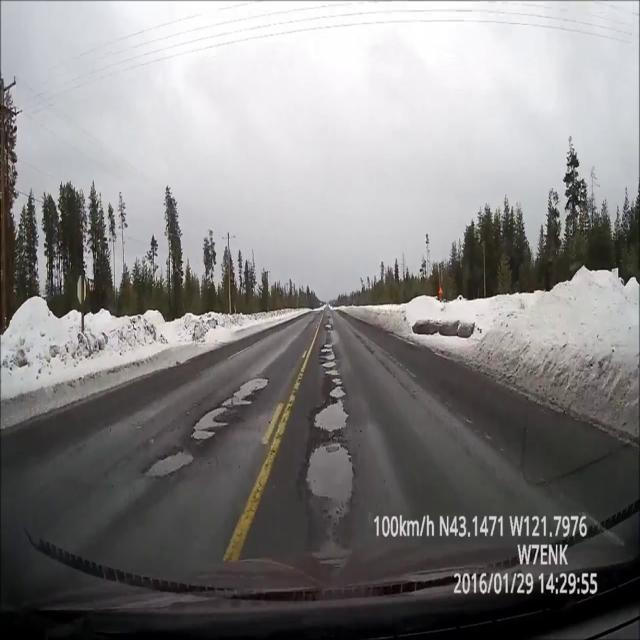Pothole: (306, 440, 357, 510), (146, 449, 192, 481), (220, 377, 269, 405), (190, 406, 228, 442), (313, 403, 349, 431), (321, 362, 340, 376), (320, 344, 336, 359), (330, 386, 345, 397), (333, 377, 341, 385), (324, 324, 332, 329)
